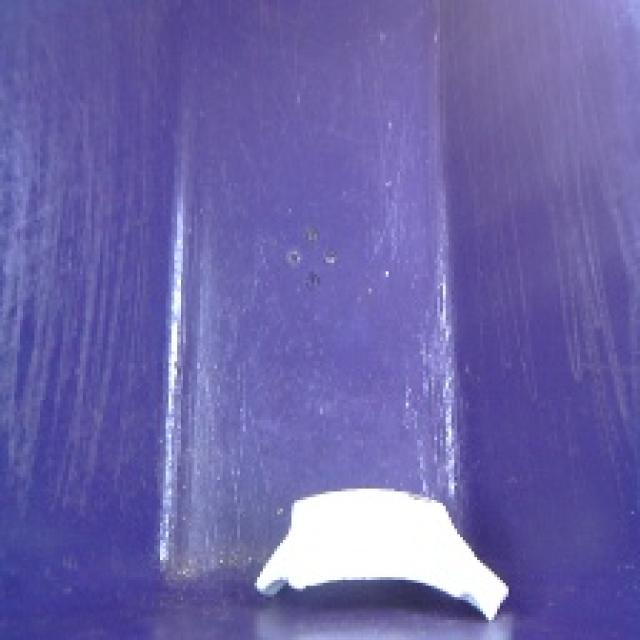china: (235, 467, 528, 628)
